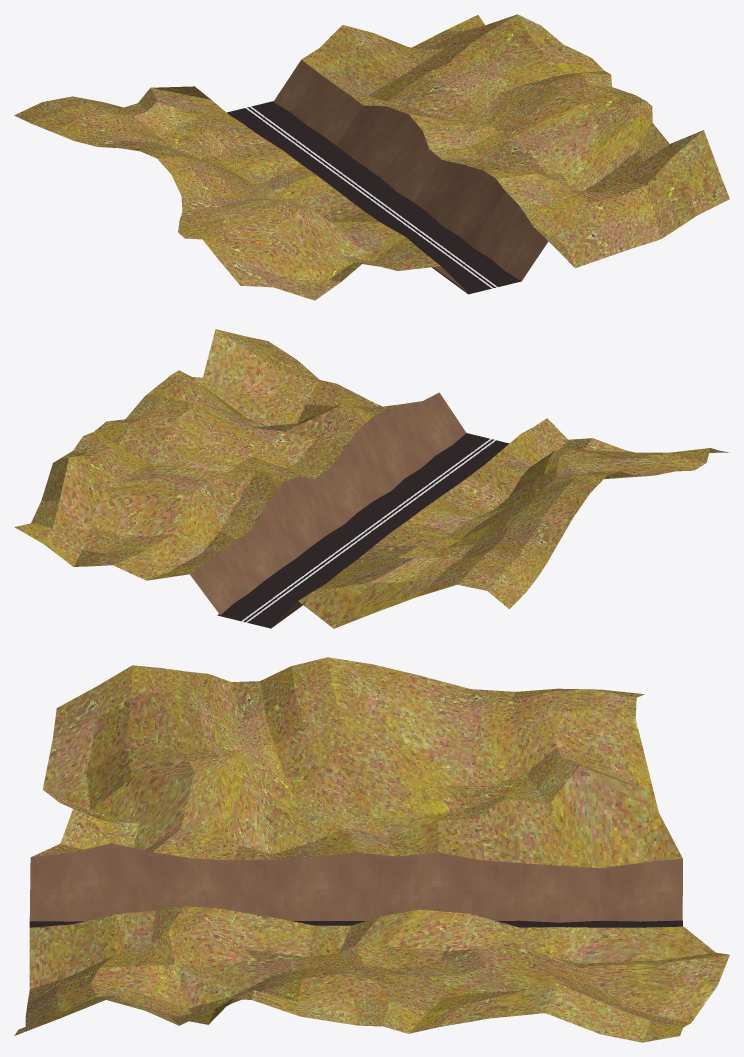
File: road_scene.glb
The picture shows the model from 3 angles, top to bottom: view 1: azimuth 30°, elevation 25°; view 2: azimuth 150°, elevation 25°; view 3: azimuth 270°, elevation 25°; orthographic projection. The views are drawn at different scales.
Parts seen in each view (by area): view 1: floor, walls, road; view 2: floor, walls, road; view 3: floor, walls, road.
Boxes of the visible parts, left/top/right/bottom form: floor: left=14, top=14, right=729, bottom=300; walls: left=273, top=59, right=548, bottom=293; road: left=226, top=101, right=521, bottom=294; floor: left=14, top=329, right=729, bottom=628; walls: left=190, top=392, right=466, bottom=627; road: left=217, top=433, right=509, bottom=628; floor: left=14, top=657, right=729, bottom=1042; walls: left=29, top=843, right=682, bottom=922; road: left=29, top=920, right=682, bottom=927.
Size of the model in its own units: 120 by 23.07 by 110.
Materials: 3 (3 with a texture image).
